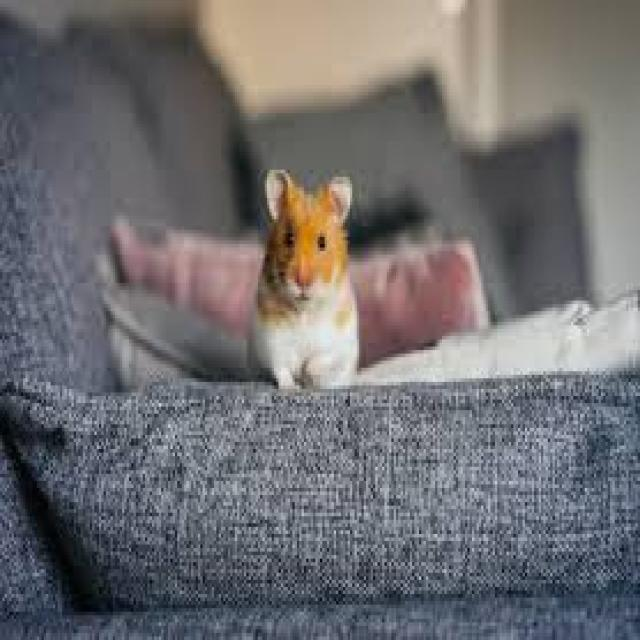hamster: (197, 148, 376, 384)
